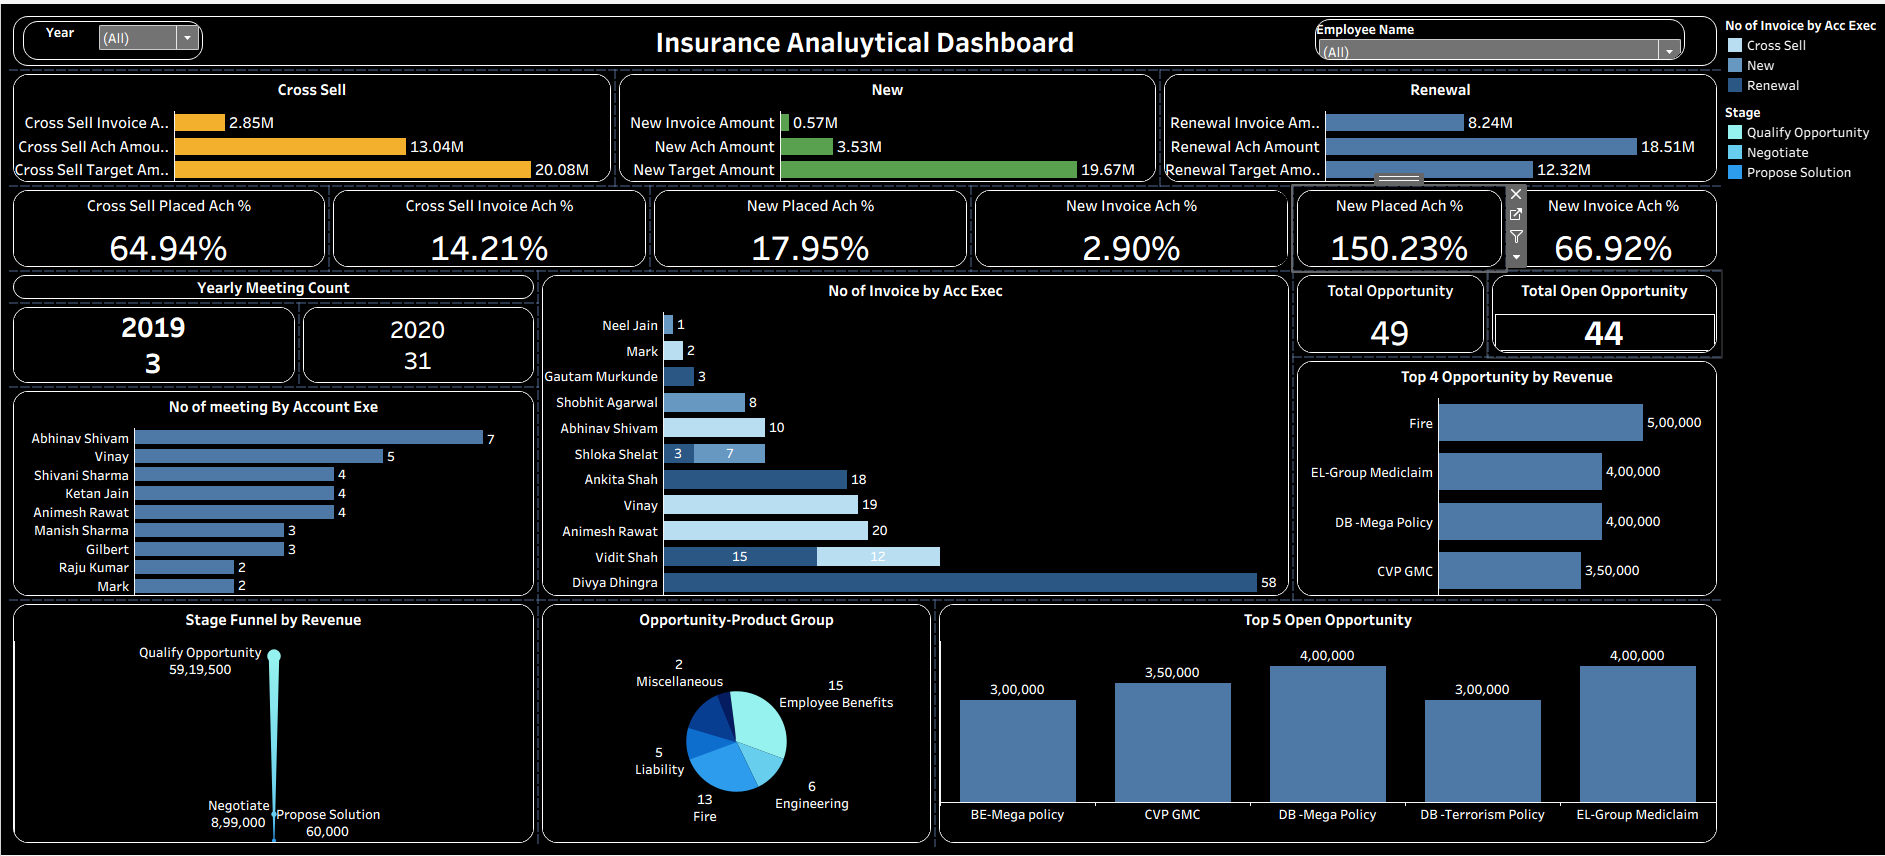

The dashboard page shown, as its layout file describes it:
{"tool":"tableau","page":{"name":"Dashboard 1","canvas":[1000,1000],"units":"permille","ordinal":0},"visuals":[{"type":"text","box":[4.2,9.4,906.8,68.2]},{"type":"legend","title":"No of Invoice by Acc Exec","param":"[federated.0n5eswy13s9dt41crs0db1pnrpt2].[none:income_class (invoice!20200123104","box":[911,9.4,84.8,102.2]},{"type":"filter","title":"Opportunity-Product Group","param":"[federated.0n5eswy13s9dt41crs0db1pnrpt2].[none:Employee Name:nk]","box":[693.6,12.9,200,57.6]},{"type":"filter","title":"Opportunity-Product Group","param":"[federated.0n5eswy13s9dt41crs0db1pnrpt2].[yr:meeting_date:ok]","box":[9.7,15.3,99.7,55.2]},{"type":"worksheet","title":"Cross Sell","mark":"Automatic","box":[4.2,77.5,320.9,136.3]},{"type":"worksheet","title":"New","mark":"Automatic","box":[325.2,77.5,288.9,136.3]},{"type":"worksheet","title":"Renewal","mark":"Automatic","box":[614.1,77.5,296.9,136.3]},{"type":"legend","title":"Stage Funnel by Revenue","param":"[federated.0n5eswy13s9dt41crs0db1pnrpt2].[none:stage:nk]","box":[911,111.6,84.8,102.2]},{"type":"worksheet","title":"Cross Sell Placed Ach %","mark":"Automatic","box":[4.2,213.9,169.7,99.9]},{"type":"worksheet","title":"Cross Sell Invoice Ach %","mark":"Automatic","box":[174,213.9,170,99.9]},{"type":"worksheet","title":"NEw Placed Ach %","mark":"Automatic","box":[343.9,213.9,170.1,99.9]},{"type":"worksheet","title":"New invoice Ach %","mark":"Automatic","box":[514,213.9,170.2,99.9]},{"type":"worksheet","title":"Renewal Placed Ach %","mark":"Automatic","box":[684.2,213.9,113.1,99.9]},{"type":"worksheet","title":"Renewal Invoice Ach % (2)","mark":"Automatic","box":[797.3,213.9,113.7,99.9]},{"type":"text","box":[4.2,313.7,280.2,37.6]},{"type":"worksheet","title":"No of Invoice by Acc Exec","mark":"Automatic","rows":["Account Executive (invoice!202001231041)"],"cols":["Calculation_0092115589296129"],"box":[284.4,313.7,399.8,386.6]},{"type":"worksheet","title":"Total Opportunity","mark":"Automatic","box":[684.2,313.7,103.3,101.1]},{"type":"worksheet","title":"Total Open Opportunity ","mark":"Automatic","box":[787.5,313.7,123.5,101.1]},{"type":"worksheet","title":"2019 Meeting Count (3)","mark":"Automatic","box":[4.2,351.3,153.7,98.7]},{"type":"worksheet","title":"2020 Meeting Count (2)","mark":"Automatic","box":[157.9,351.3,126.5,98.7]},{"type":"worksheet","title":"Top 4 Opportunity by Revenue","mark":"Automatic","rows":["opportunity_name"],"cols":["revenue_amount"],"box":[684.2,414.8,226.8,285.5]},{"type":"worksheet","title":"No of meeting By Account Exe","mark":"Automatic","rows":["Account Executive (meeting!list!202001231041)"],"cols":["meeting!list!202001231041_6BA29C60F1094AA59B289B58AA4A3ED9"],"box":[4.2,450.1,280.2,250.3]},{"type":"worksheet","title":"Stage Funnel by Revenue","mark":"Line","rows":["revenue_amount"],"box":[4.2,700.3,280.2,290.3]},{"type":"worksheet","title":"Opportunity-Product Group","mark":"Pie","box":[284.4,700.3,210.5,290.3]},{"type":"worksheet","title":"Top 5 Open Opportunity","mark":"Automatic","rows":["revenue_amount"],"cols":["opportunity_name"],"box":[494.9,700.3,416.1,290.3]}]}

Visuals, with their boxes on the dashboard's canvas, which has no fixed pixel size, in thousandths of its width and height (x1, y1, x2, y2). These are canvas units, not pixel positions in the 1885x856 screenshot, which may show the page scaled, cropped or inside an application window:
text: crop(4, 9, 911, 78)
"No of Invoice by Acc Exec" legend: crop(911, 9, 996, 112)
"Opportunity-Product Group" filter: crop(694, 13, 894, 70)
"Opportunity-Product Group" filter: crop(10, 15, 109, 70)
"Cross Sell" worksheet: crop(4, 78, 325, 214)
"New" worksheet: crop(325, 78, 614, 214)
"Renewal" worksheet: crop(614, 78, 911, 214)
"Stage Funnel by Revenue" legend: crop(911, 112, 996, 214)
"Cross Sell Placed Ach %" worksheet: crop(4, 214, 174, 314)
"Cross Sell Invoice Ach %" worksheet: crop(174, 214, 344, 314)
"NEw Placed Ach %" worksheet: crop(344, 214, 514, 314)
"New invoice Ach %" worksheet: crop(514, 214, 684, 314)
"Renewal Placed Ach %" worksheet: crop(684, 214, 797, 314)
"Renewal Invoice Ach % (2)" worksheet: crop(797, 214, 911, 314)
text: crop(4, 314, 284, 351)
"No of Invoice by Acc Exec" worksheet: crop(284, 314, 684, 700)
"Total Opportunity" worksheet: crop(684, 314, 788, 415)
"Total Open Opportunity " worksheet: crop(788, 314, 911, 415)
"2019 Meeting Count (3)" worksheet: crop(4, 351, 158, 450)
"2020 Meeting Count (2)" worksheet: crop(158, 351, 284, 450)
"Top 4 Opportunity by Revenue" worksheet: crop(684, 415, 911, 700)
"No of meeting By Account Exe" worksheet: crop(4, 450, 284, 700)
"Stage Funnel by Revenue" worksheet (Line marks): crop(4, 700, 284, 991)
"Opportunity-Product Group" worksheet (Pie marks): crop(284, 700, 495, 991)
"Top 5 Open Opportunity" worksheet: crop(495, 700, 911, 991)
